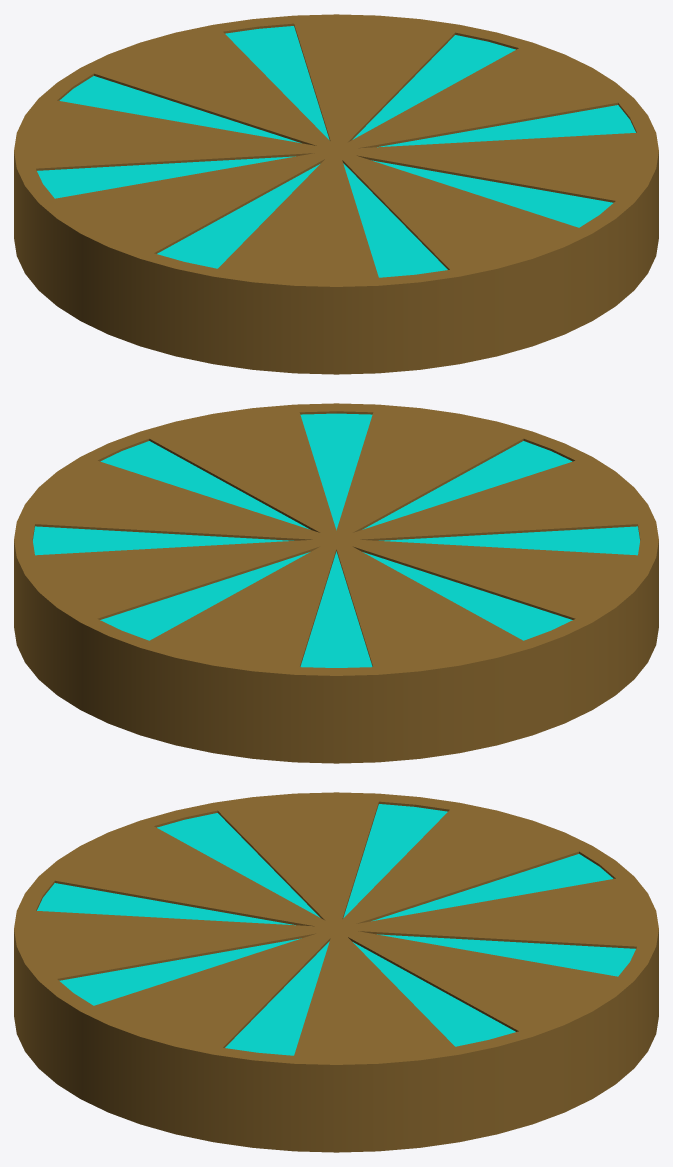
The model's file is HexRocksBaseCircle.fbx.
3 renders of one model, top to bottom at view 1: azimuth 30°, elevation 25°; view 2: azimuth 150°, elevation 25°; view 3: azimuth 270°, elevation 25°, orthographic.
Parts seen in each view (by area): view 1: pCylinder34; view 2: pCylinder34; view 3: pCylinder34.
Part boxes in pixels (bbox=[...]): pCylinder34: bbox=[14, 14, 658, 374]; pCylinder34: bbox=[14, 403, 658, 763]; pCylinder34: bbox=[14, 792, 658, 1152].
Bounding box in the file's own units: 41.03 × 6.15 × 41.03.
